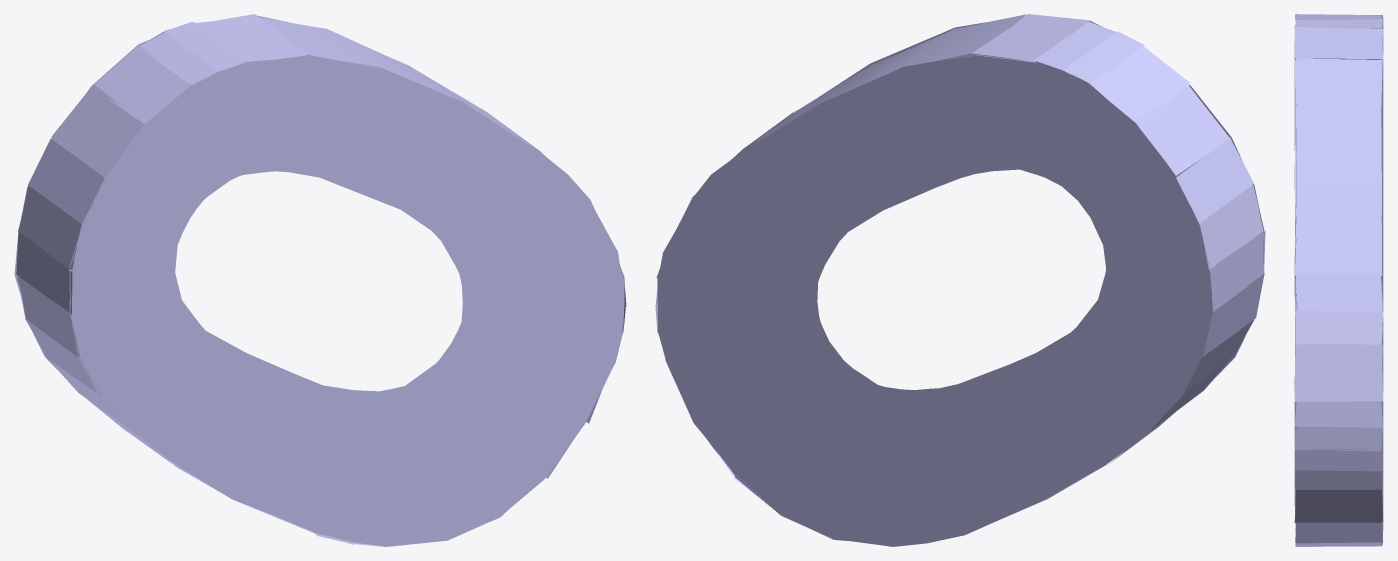
File: original-43.obj
3 renders of one model, left to right at view 1: azimuth 30°, elevation 25°; view 2: azimuth 150°, elevation 25°; view 3: azimuth 270°, elevation 25°, orthographic. The views are drawn at different scales.
Visible parts, largest first — view 1: #ID288; view 2: #ID288; view 3: #ID288.
Boxes of the visible parts, x1,y1,x2,y2 form: #ID288: (14,14,626,546); #ID288: (655,14,1265,546); #ID288: (1294,14,1383,546).
Size of the model in its own units: 0.0355 by 0.0322 by 0.00607.
